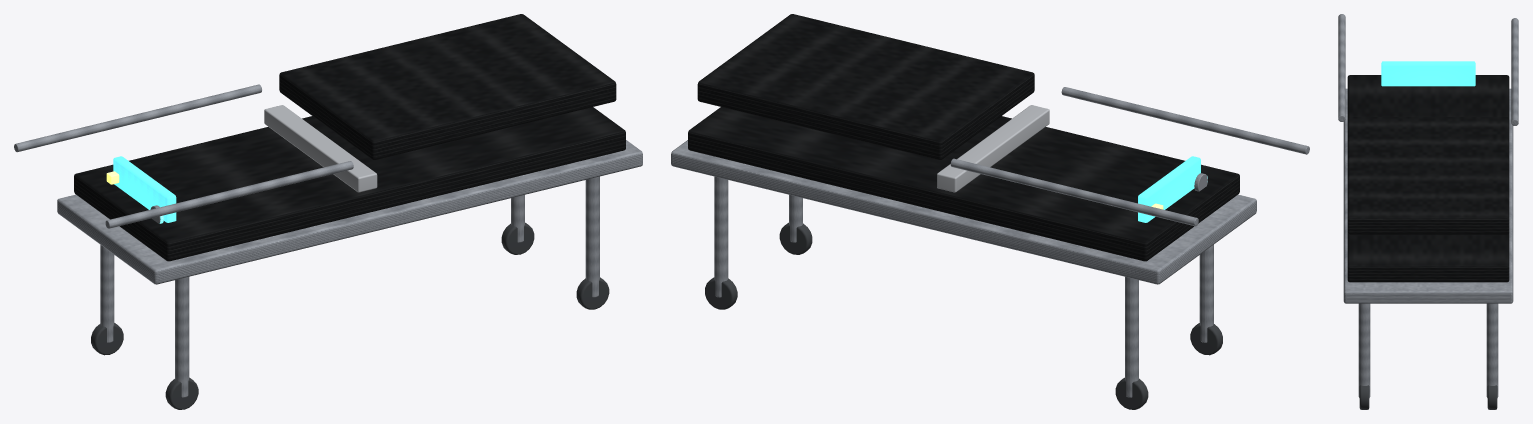
Rendered from room_l1_img2_folded_gurney.glb.
The picture shows the model from 3 angles, left to right: view 1: azimuth 30°, elevation 25°; view 2: azimuth 150°, elevation 25°; view 3: azimuth 270°, elevation 25°; orthographic projection. The views are drawn at different scales.
Visible parts, largest first — view 1: folded_mattress_lower, folded_mattress_upper, steel_under_frame, hinge_block, side_rail_0, side_rail_1, foot_diagnostic_panel, gurney_leg_0, gurney_leg_1, gurney_leg_2, gurney_wheel_3, gurney_wheel_1 (+2 smaller); view 2: folded_mattress_lower, folded_mattress_upper, steel_under_frame, hinge_block, side_rail_1, side_rail_0, foot_diagnostic_panel, gurney_leg_3, gurney_leg_2, gurney_leg_0, gurney_wheel_3, gurney_wheel_2 (+2 smaller); view 3: folded_mattress_upper, folded_mattress_lower, steel_under_frame, foot_diagnostic_panel, gurney_leg_1, gurney_leg_3, side_rail_1, side_rail_0, gurney_wheel_1, gurney_wheel_3.
Part boxes in pixels (bbox=[...]): folded_mattress_lower: bbox=[74, 107, 625, 261]; folded_mattress_upper: bbox=[279, 14, 616, 159]; steel_under_frame: bbox=[57, 140, 642, 284]; hinge_block: bbox=[264, 105, 377, 192]; side_rail_0: bbox=[105, 161, 353, 228]; side_rail_1: bbox=[14, 84, 261, 152]; foot_diagnostic_panel: bbox=[113, 156, 176, 222]; gurney_leg_0: bbox=[175, 277, 189, 397]; gurney_leg_1: bbox=[585, 176, 599, 297]; gurney_leg_2: bbox=[100, 245, 114, 342]; gurney_wheel_3: bbox=[501, 222, 534, 254]; gurney_wheel_1: bbox=[576, 277, 609, 309]; folded_mattress_lower: bbox=[688, 107, 1239, 261]; folded_mattress_upper: bbox=[697, 14, 1034, 159]; steel_under_frame: bbox=[671, 140, 1256, 284]; hinge_block: bbox=[937, 105, 1049, 192]; side_rail_1: bbox=[950, 158, 1198, 226]; side_rail_0: bbox=[1061, 87, 1309, 154]; foot_diagnostic_panel: bbox=[1138, 156, 1200, 222]; gurney_leg_3: bbox=[714, 176, 728, 297]; gurney_leg_2: bbox=[1125, 277, 1138, 397]; gurney_leg_0: bbox=[1199, 244, 1213, 342]; gurney_wheel_3: bbox=[705, 277, 737, 309]; gurney_wheel_2: bbox=[1115, 377, 1148, 409]; folded_mattress_upper: bbox=[1347, 117, 1509, 234]; folded_mattress_lower: bbox=[1347, 75, 1509, 282]; steel_under_frame: bbox=[1343, 88, 1513, 303]; foot_diagnostic_panel: bbox=[1381, 61, 1475, 86]; gurney_leg_1: bbox=[1358, 303, 1370, 397]; gurney_leg_3: bbox=[1486, 303, 1498, 397]; side_rail_1: bbox=[1511, 18, 1518, 125]; side_rail_0: bbox=[1338, 14, 1345, 121]; gurney_wheel_1: bbox=[1359, 385, 1369, 409]; gurney_wheel_3: bbox=[1487, 385, 1497, 409].
Bounding box in the file's own units: 2.2 × 0.9 × 0.7485.
Materials: 8 (5 with a texture image).
